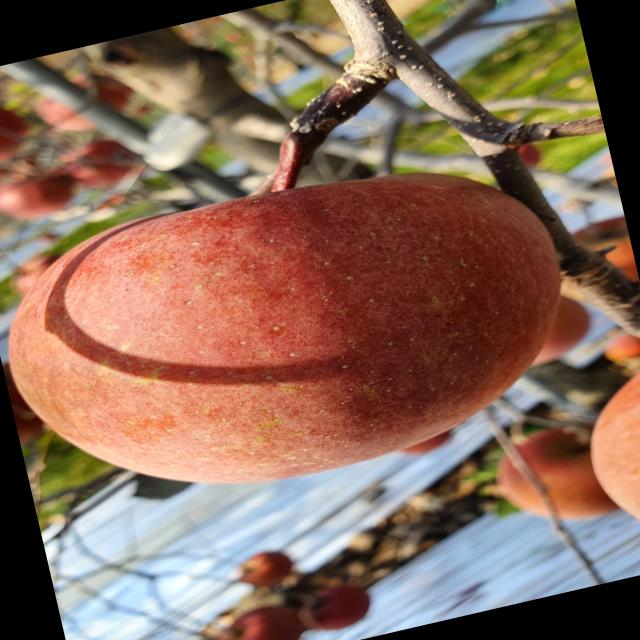fresh: (1, 116, 610, 546)
